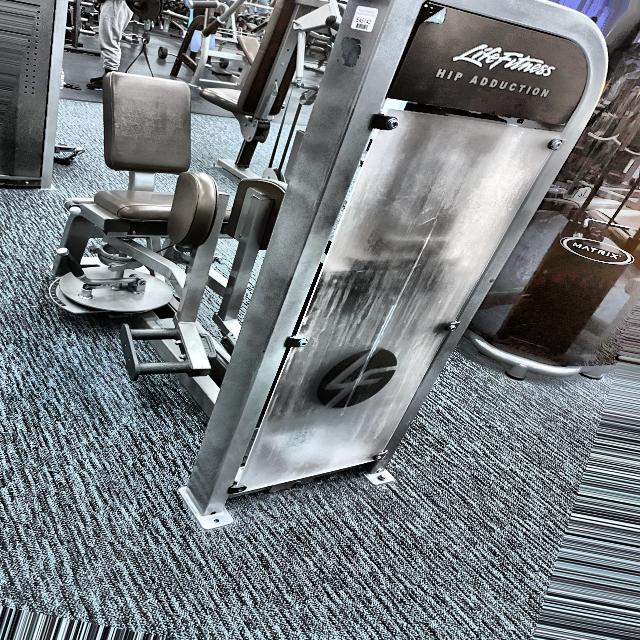hip_adduction_machine: (69, 38, 265, 394), (431, 60, 567, 127)
